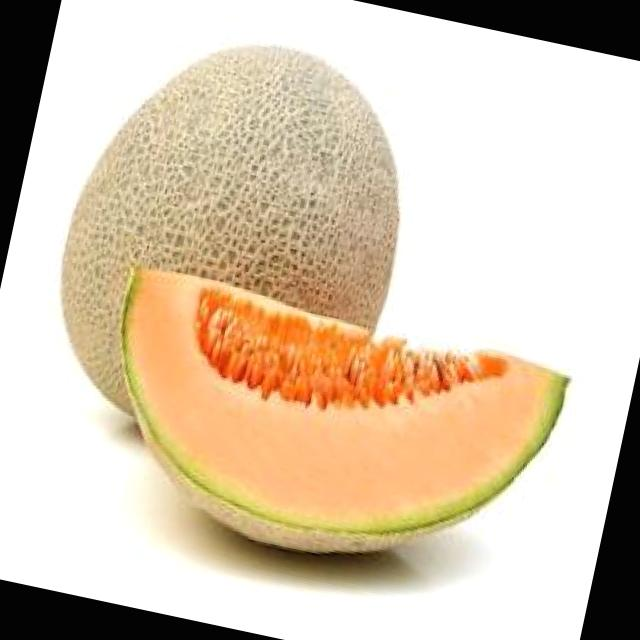cantaloupe: (31, 16, 432, 464), (79, 258, 574, 600)
